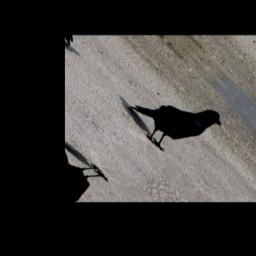Crow: (119, 76, 229, 157)
